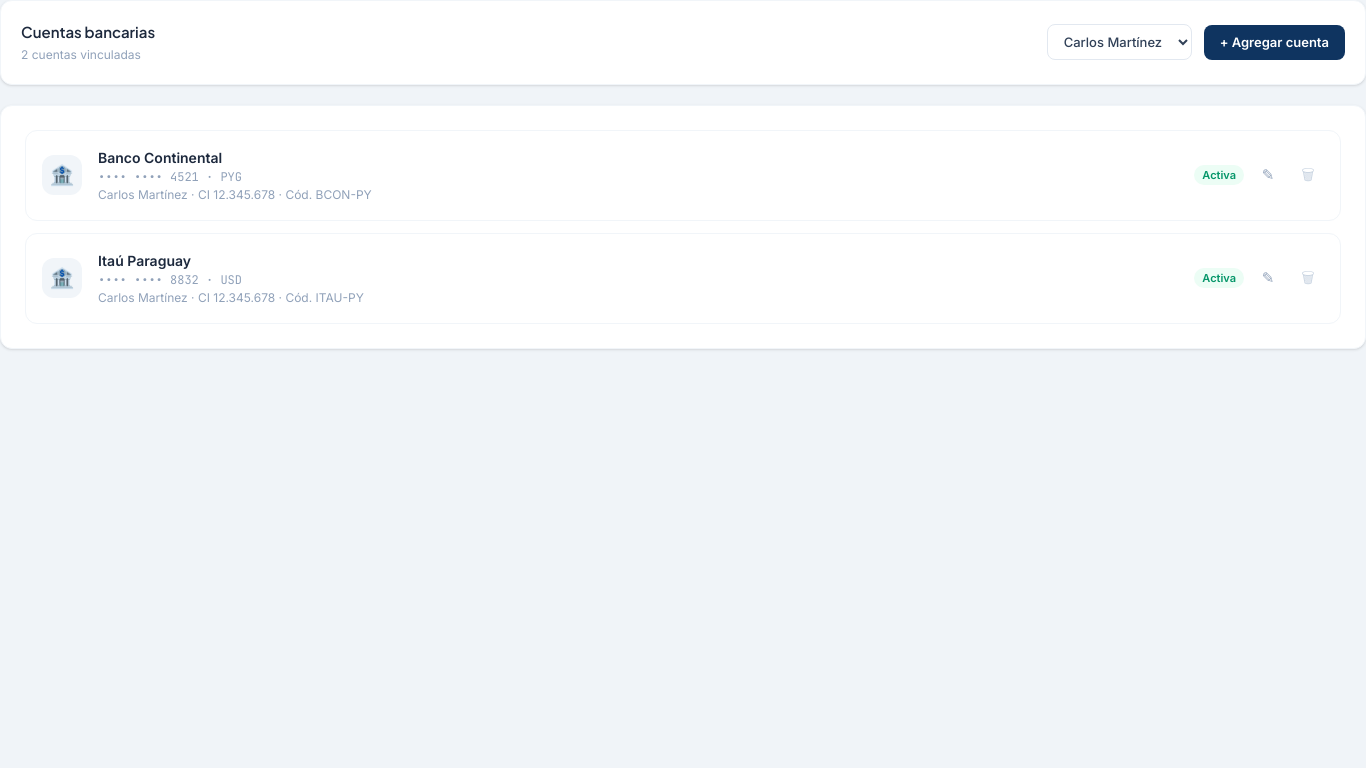
it: Banks (CRUD de medios de pago del cliente) › pide confirmación y elimina la cuenta al confirmar
Expected: the text "Itaú Paraguay" is shown, [98,252,191,268]
Step 1. Click the button named "Eliminar cuenta Itaú Paraguay" → coordinates (1308, 278), box [1292,262,1324,294]
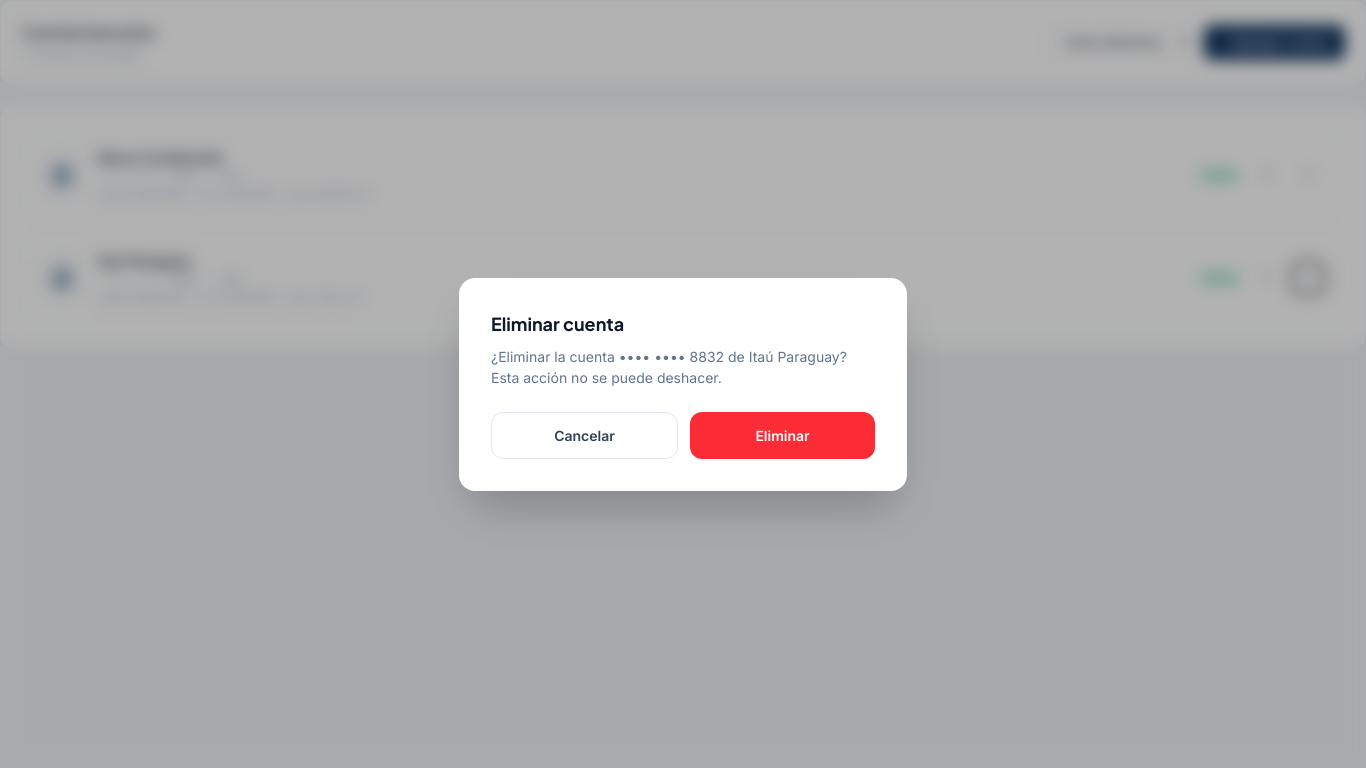
Now the heading "Eliminar cuenta" is shown, box [491,312,624,334]
Step 2. Click the button "Cancelar" → coordinates (584, 435), box [491,412,678,458]
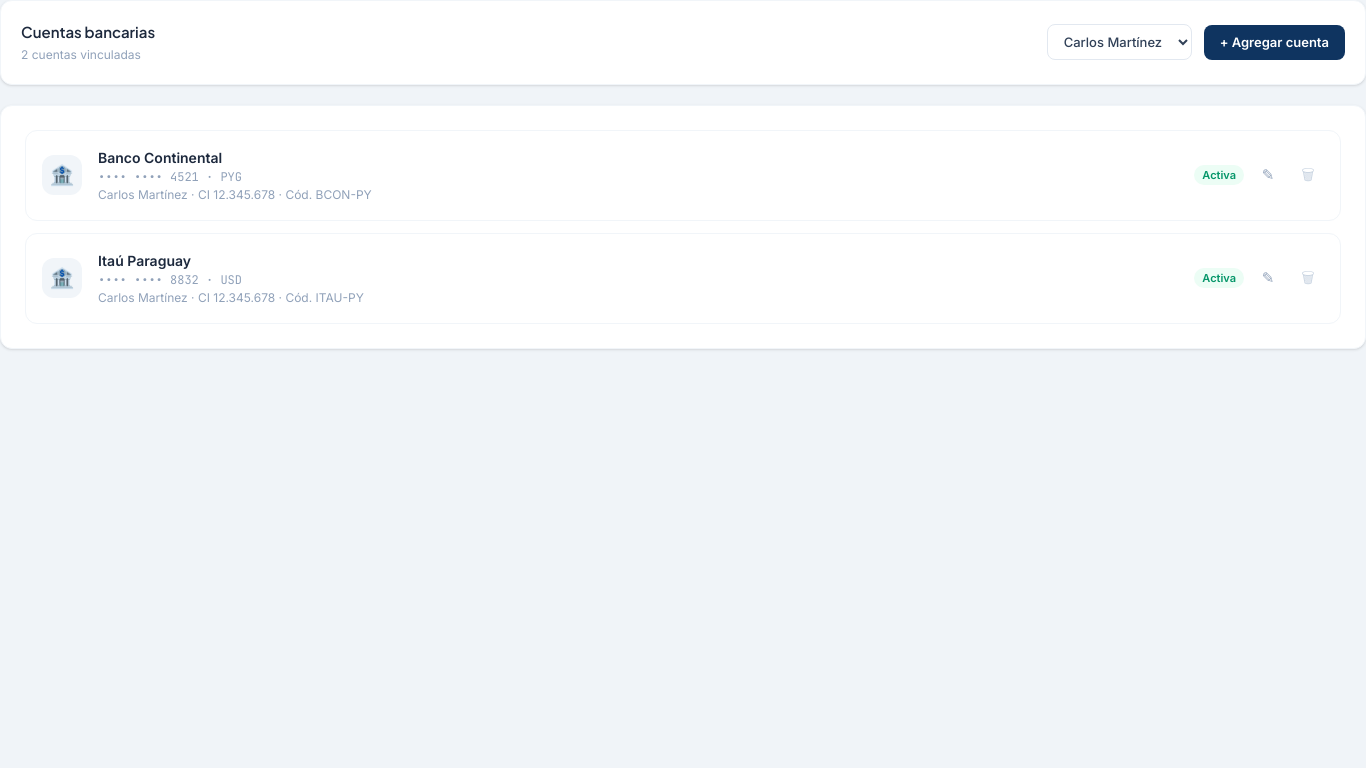
Expected: the text "Itaú Paraguay" is shown, [98,252,191,268]
Step 3. Click the button named "Eliminar cuenta Itaú Paraguay" → coordinates (1308, 278), box [1292,262,1324,294]
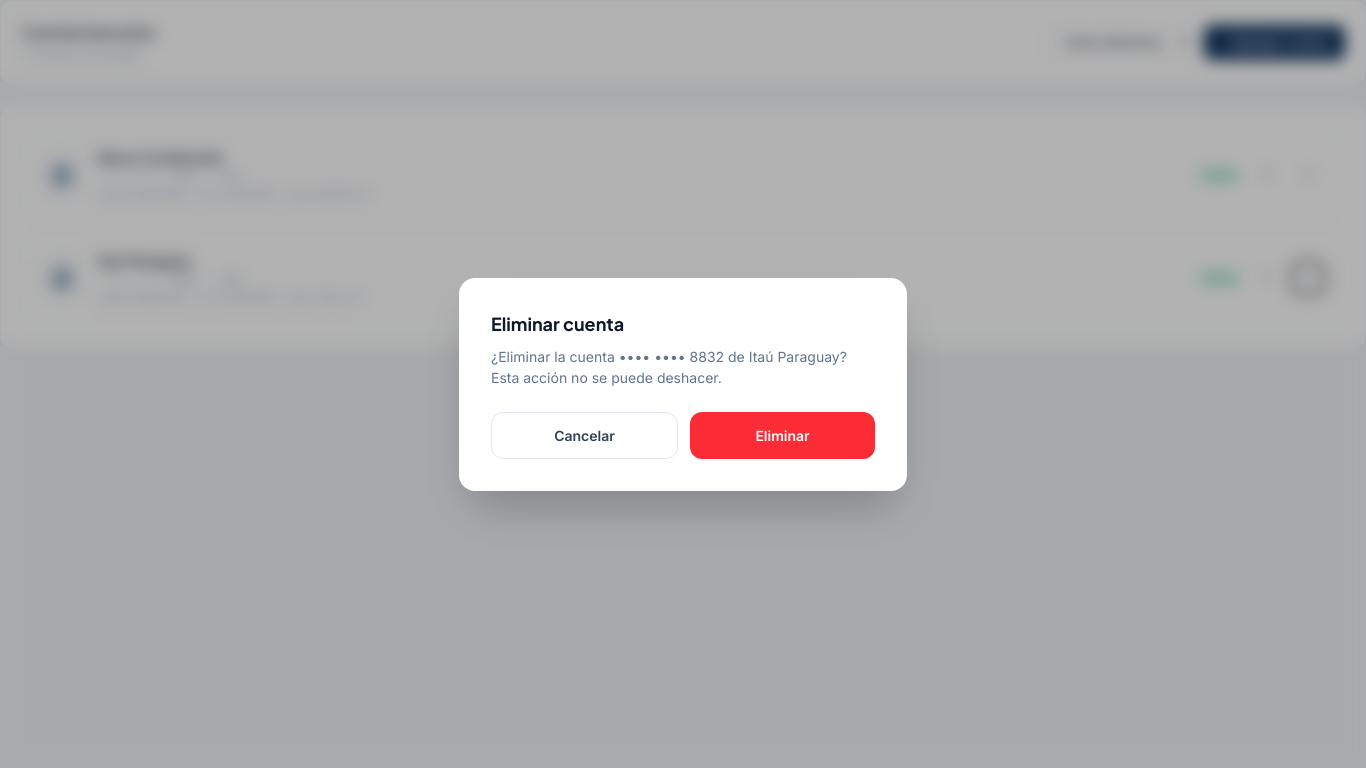
Step 4. Click the button "Eliminar" → coordinates (782, 435), box [690,412,875,458]
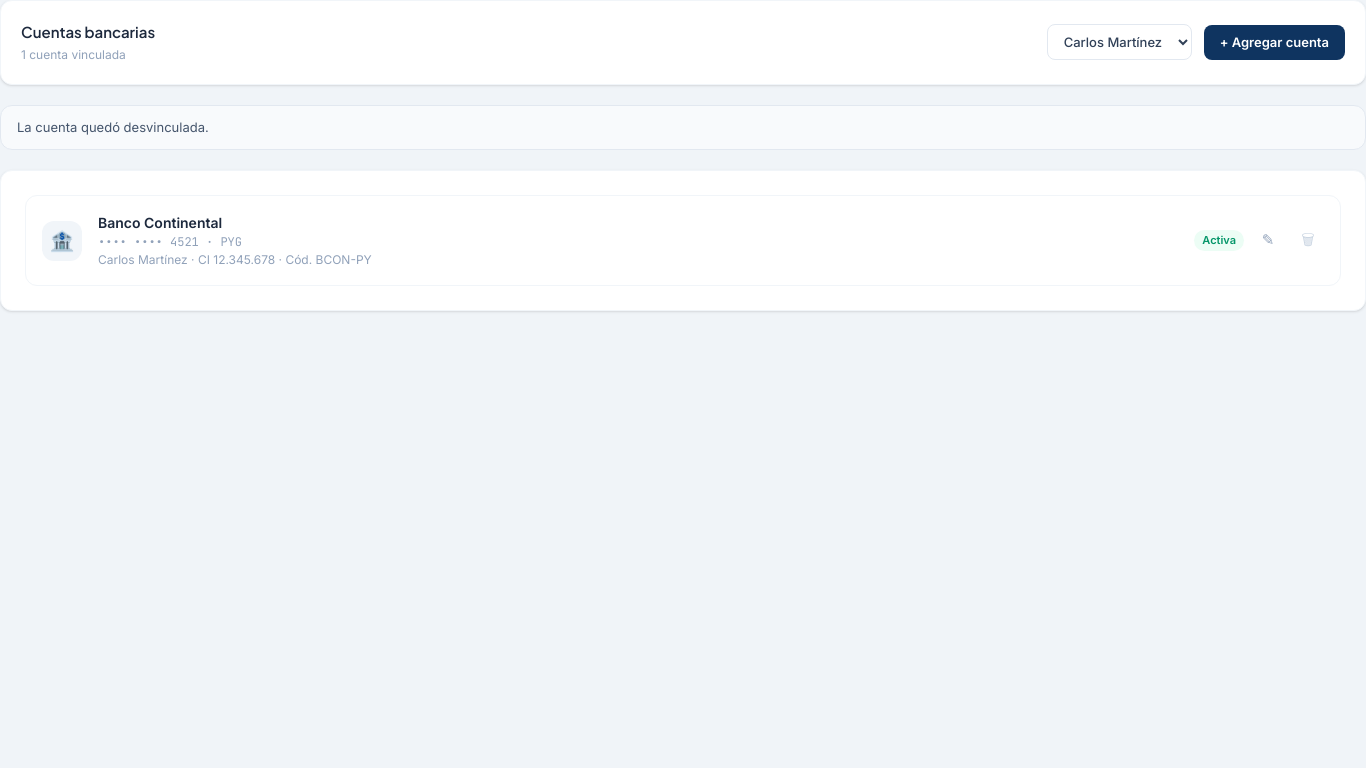
Now the text "Itaú Paraguay" is gone
Now the text "1 cuenta vinculada" is shown, box [21,46,126,62]
